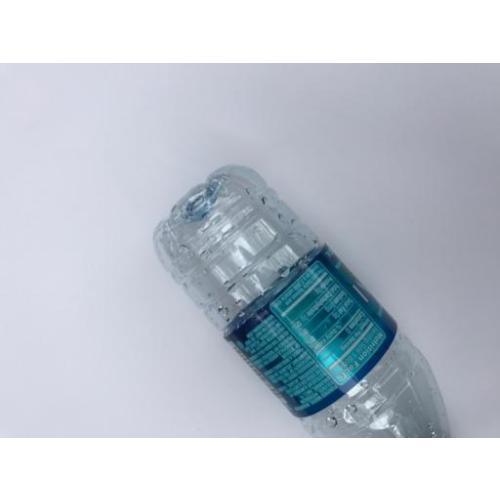plastic: (154, 166, 454, 437)
